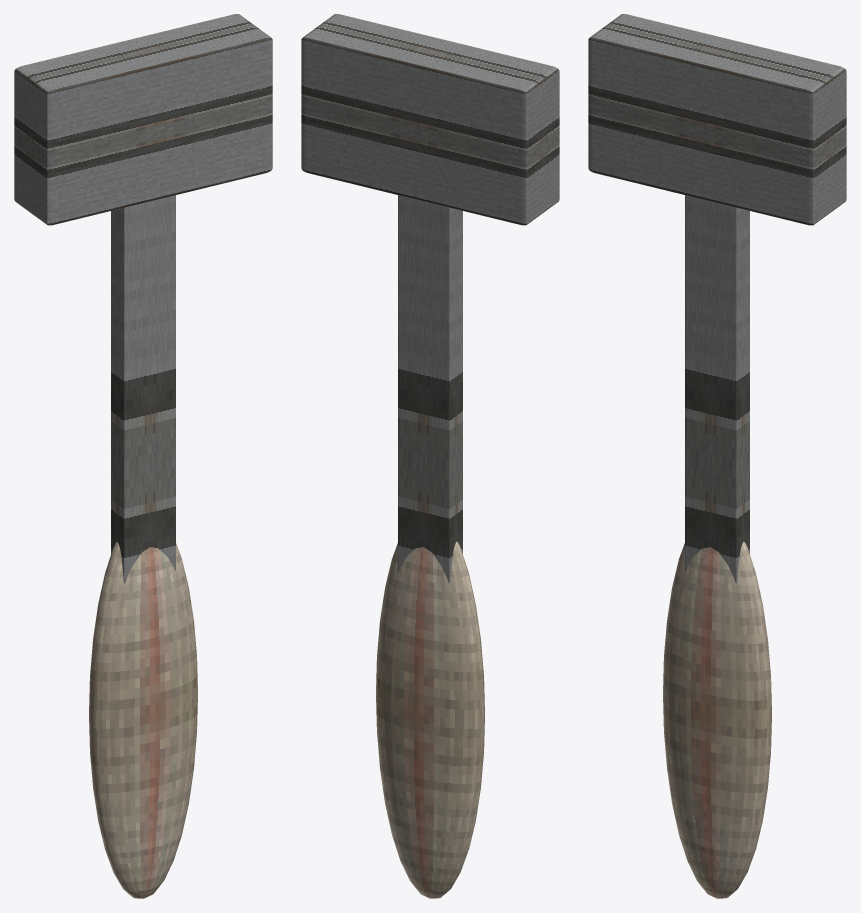
The model's file is broom.glb.
The picture shows the model from 3 angles, left to right: view 1: azimuth 30°, elevation 25°; view 2: azimuth 150°, elevation 25°; view 3: azimuth 330°, elevation 25°; orthographic projection.
Visible parts, largest first — view 1: head, grip, shaft; view 2: head, grip, shaft; view 3: head, grip, shaft.
Part boxes in pixels (left/top/right/bottom): head: left=14, top=14, right=272, bottom=225; grip: left=89, top=541, right=197, bottom=898; shaft: left=111, top=195, right=175, bottom=583; head: left=301, top=14, right=559, bottom=225; grip: left=376, top=541, right=484, bottom=898; shaft: left=398, top=195, right=462, bottom=583; head: left=588, top=14, right=846, bottom=225; grip: left=663, top=541, right=771, bottom=898; shaft: left=685, top=195, right=749, bottom=583.
Bounding box in the file's own units: 0.35 × 1.25 × 0.09.
2 materials, 2 textured.
